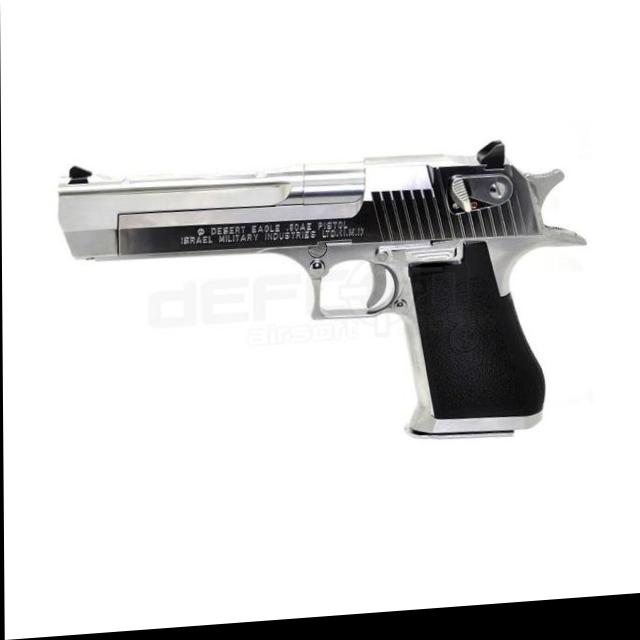handgun: (44, 125, 606, 477)
